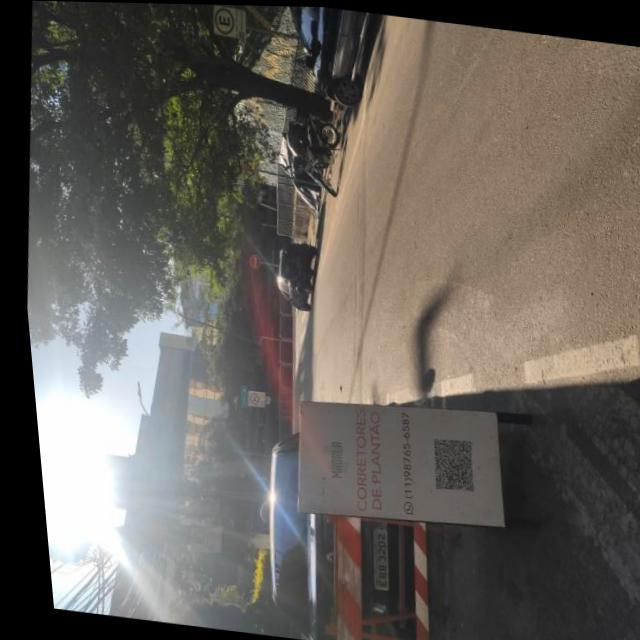qrcode: (421, 434, 471, 491)
